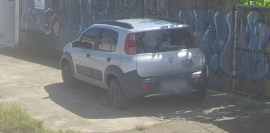car: (59, 17, 214, 110)
